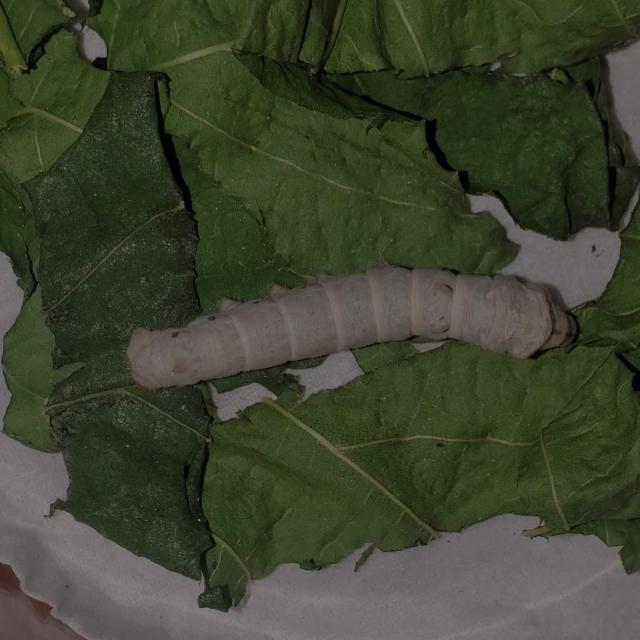Healthy: (104, 242, 608, 406)
